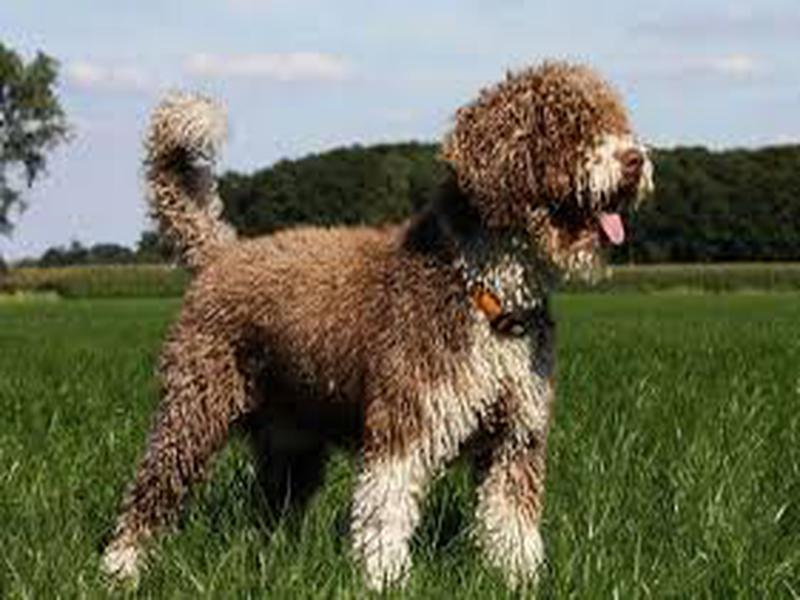dog_stand: (91, 56, 660, 600)
